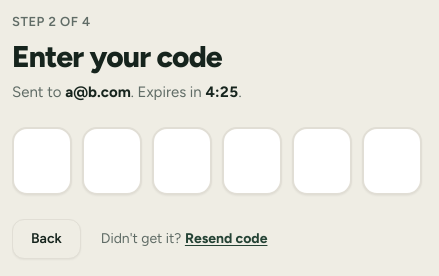
Test: OtpStep › resets the expiry countdown when a new code is requested (resend), not leaving a stale/expired timer
The image size is (439, 276).
Expected: the text "Sent to a@b.com. Expires in 4:25." is shown, [12,82,242,100]
Note: Request a fresh code (fireEvent — no userEvent/fake-timer coupling).
Click the button "Resend code".
click(226, 239)  # box [185,229,267,249]
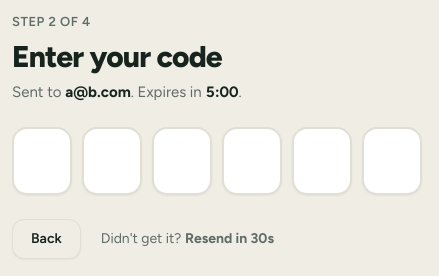
Expected: the text "Sent to a@b.com. Expires in 5:00." is shown, [12,82,242,100]
